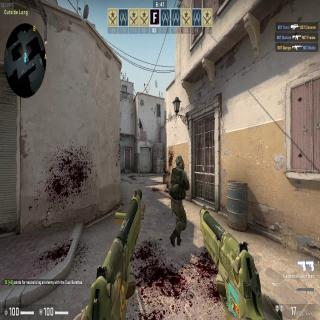T-Body: (170, 154, 190, 248)
T-Head: (176, 155, 184, 171)
